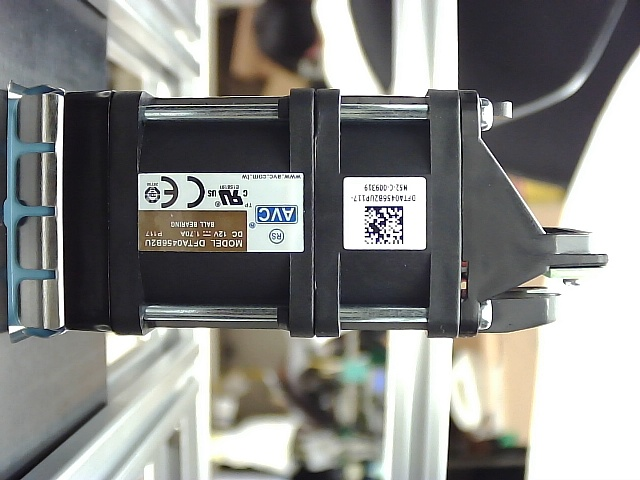5_0: (3, 66, 629, 353)
